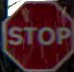Stop: (2, 1, 73, 71)
